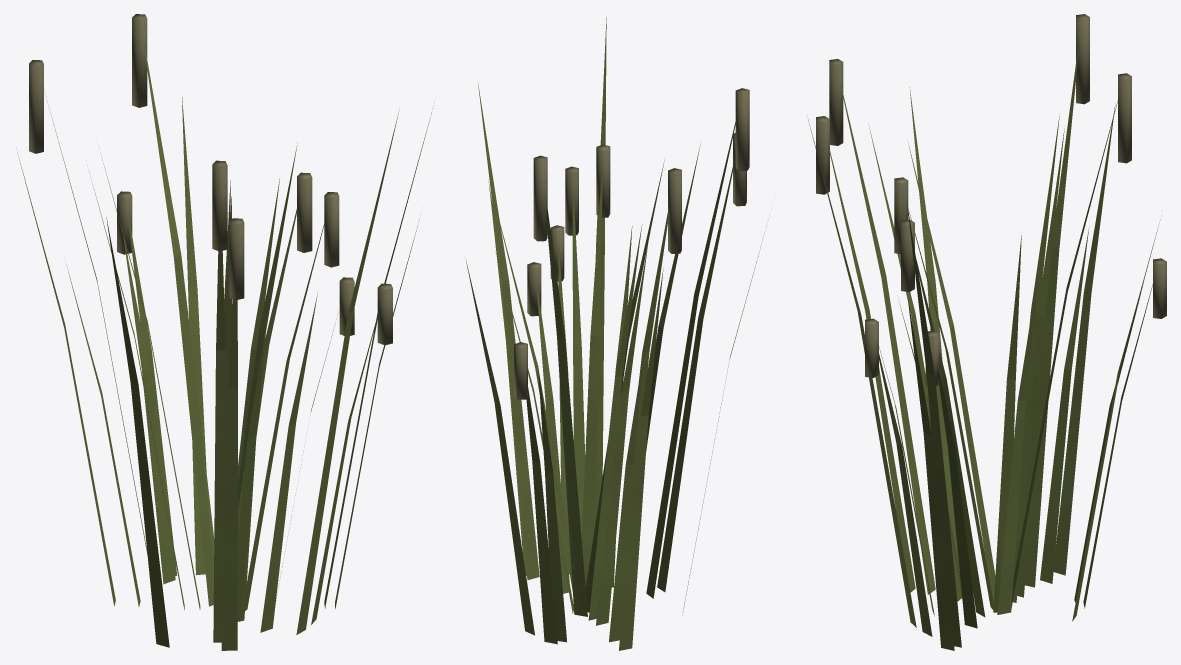
Rendered from veg_reed_clump.glb.
3 renders of one model, left to right at view 1: azimuth 30°, elevation 25°; view 2: azimuth 150°, elevation 25°; view 3: azimuth 270°, elevation 25°, orthographic. The views are drawn at different scales.
Parts seen in each view (by area): view 1: stems; view 2: stems; view 3: stems.
Boxes of the visible parts, left/top/right/bottom form: stems: left=17, top=14, right=432, bottom=650; stems: left=465, top=17, right=766, bottom=650; stems: left=808, top=14, right=1166, bottom=650.
Size of the model in its own units: 0.8485 by 1.38 by 0.8423.
Materials: 2 (2 with a texture image).
